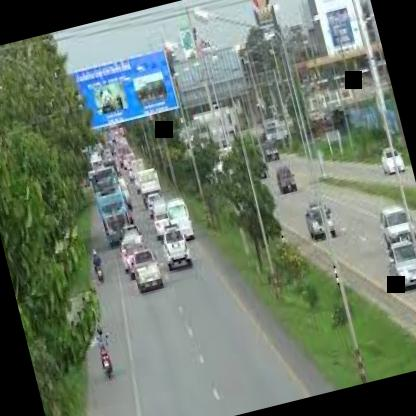car: (84, 160, 142, 256), (374, 223, 416, 299), (150, 211, 196, 276), (120, 240, 169, 300), (163, 190, 209, 252), (369, 193, 416, 251), (85, 323, 124, 384), (132, 157, 171, 210), (304, 197, 342, 244), (374, 140, 414, 183), (269, 160, 299, 200), (89, 247, 111, 289), (258, 132, 284, 162)
